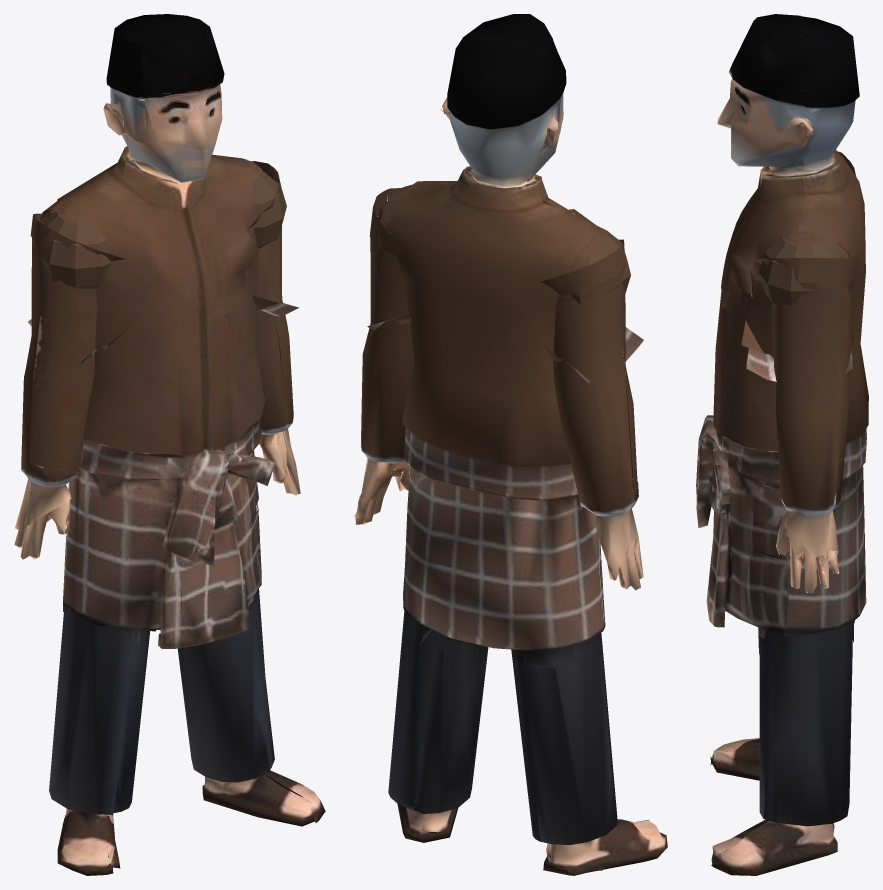
File: hero_aceng.glb
3 renders of one model, left to right at view 1: azimuth 30°, elevation 25°; view 2: azimuth 150°, elevation 25°; view 3: azimuth 270°, elevation 25°, orthographic. The views are drawn at different scales.
Visible parts, largest first — view 1: torso, leg_r, leg_l, arm_r, head, arm_l; view 2: torso, leg_r, leg_l, arm_r, head, arm_l; view 3: leg_l, torso, arm_l, head, leg_r, arm_r.
Boxes of the visible parts, x1,y1,x2,y2 form: torso: (35,141,286,482); leg_r: (49,444,214,875); leg_l: (139,430,325,826); arm_r: (14,213,298,559); head: (103,14,224,180); arm_l: (28,161,300,495); torso: (377,164,630,498); leg_r: (471,487,667,875); leg_l: (388,458,488,842); arm_r: (367,239,643,590); head: (439,14,566,188); arm_l: (354,188,643,524); leg_l: (697,443,866,875); torso: (698,150,868,483); arm_l: (755,258,858,593); head: (717,14,859,170); leg_r: (696,430,866,780); arm_r: (741,151,856,381).
Size of the model in its own units: 0.5972 by 1.66 by 0.3281.
Materials: 1 (1 with a texture image).
